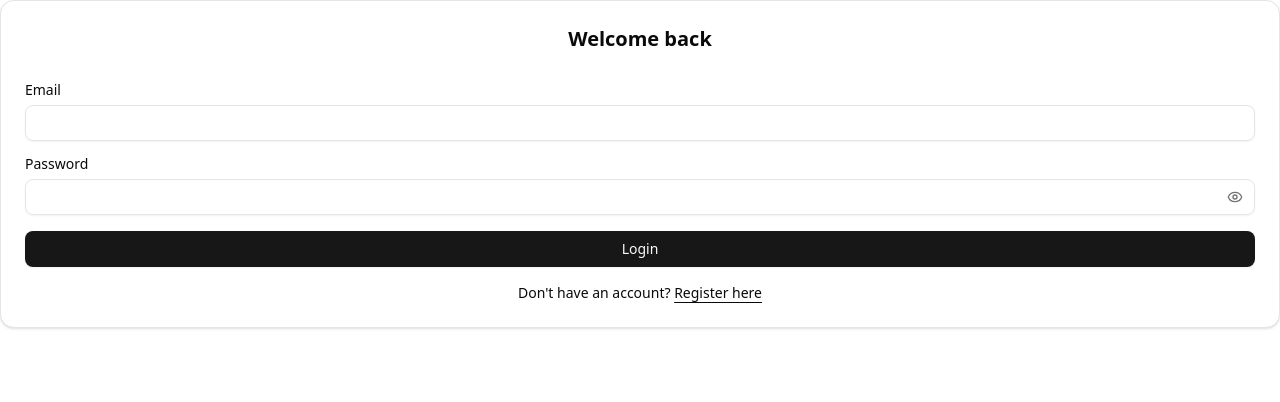
Scenario: LoginForm › validates email format
Type "invalid-email" into the field labelled "Email" at {"x": 640, "y": 123}, box [25, 105, 1255, 141]
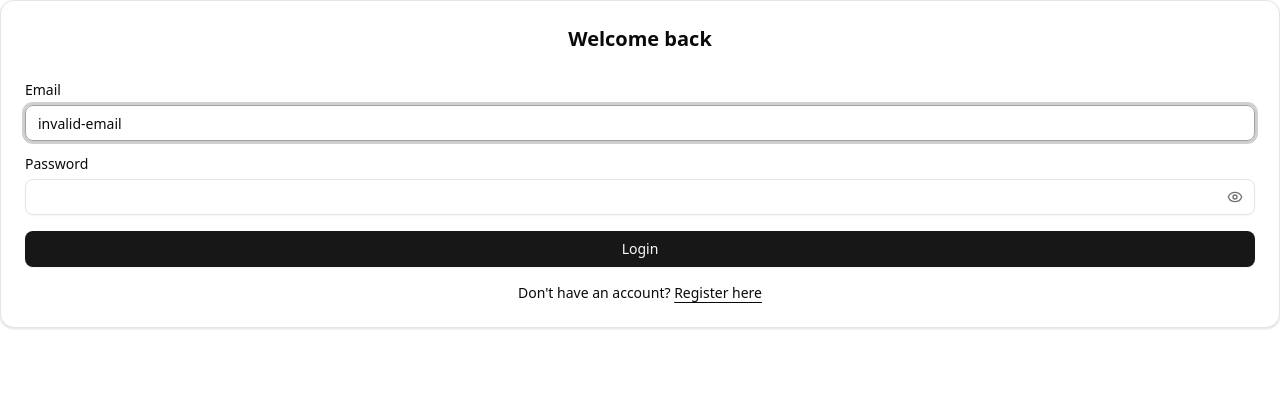
Click the button "Login" at {"x": 640, "y": 249}, box [25, 231, 1255, 267]
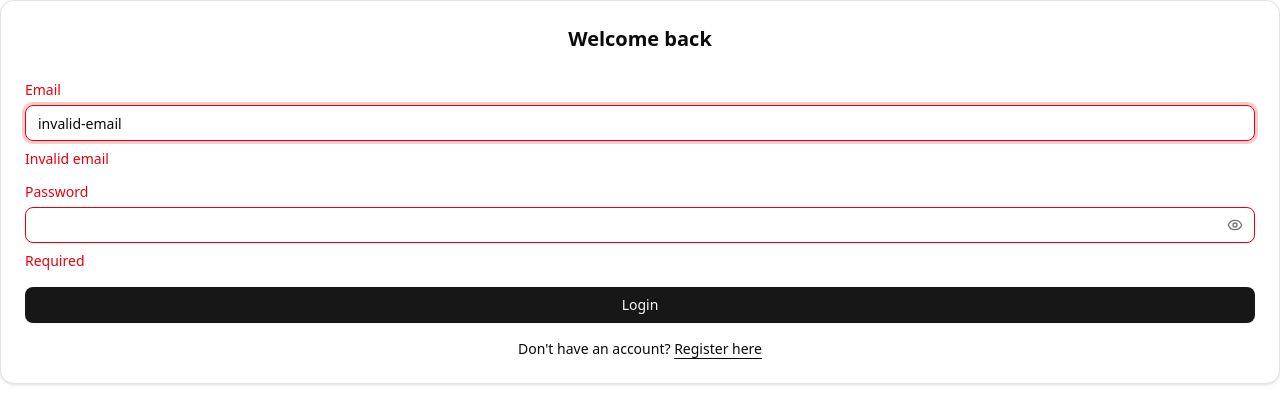
Result: the text "Invalid email" is shown at [25, 149, 109, 168]
